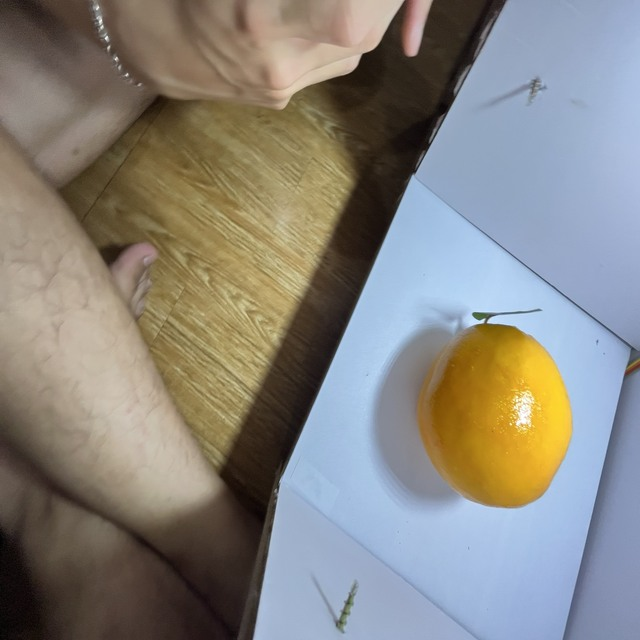Cam vang: (417, 320, 572, 512)
